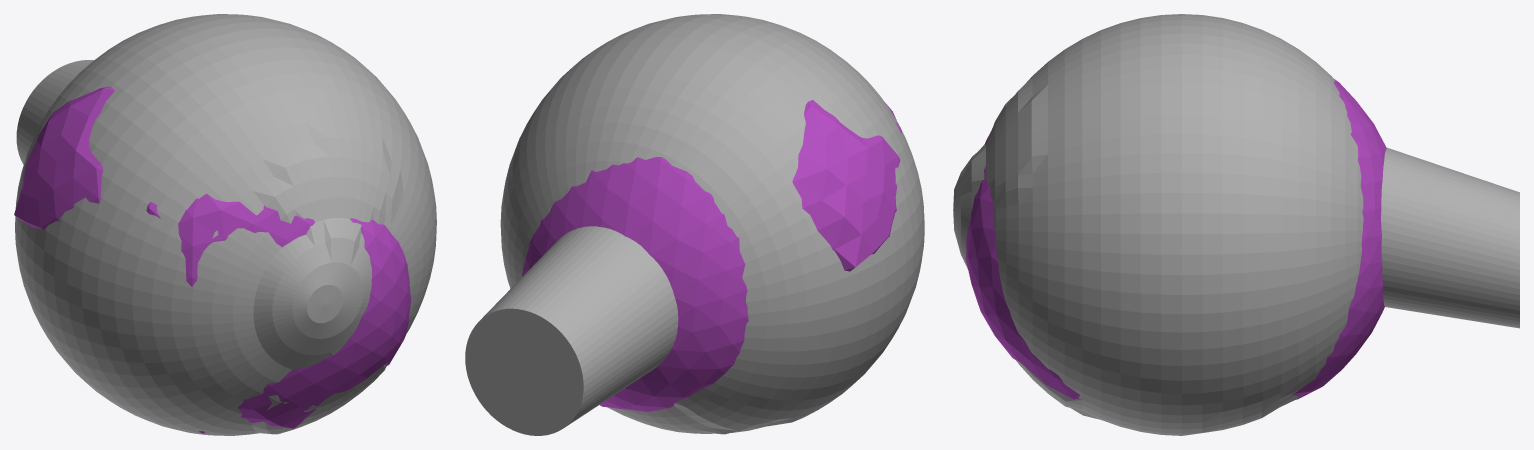
Rendered from G01_DEFORM_ONLY_GT_ALIGNED.glb.
3 renders of one model, left to right at view 1: azimuth 30°, elevation 25°; view 2: azimuth 150°, elevation 25°; view 3: azimuth 270°, elevation 25°, orthographic.
Visible parts, largest first — view 1: GT, DEFORM_ONLY_ALIGNED_EVALUATION_ONLY; view 2: GT, DEFORM_ONLY_ALIGNED_EVALUATION_ONLY; view 3: GT, DEFORM_ONLY_ALIGNED_EVALUATION_ONLY.
Boxes of the visible parts, box(x1,y1,x2,y2) form: GT: box(15, 14, 436, 435); DEFORM_ONLY_ALIGNED_EVALUATION_ONLY: box(14, 86, 410, 433); GT: box(465, 14, 924, 435); DEFORM_ONLY_ALIGNED_EVALUATION_ONLY: box(522, 100, 901, 411); GT: box(953, 14, 1519, 435); DEFORM_ONLY_ALIGNED_EVALUATION_ONLY: box(965, 79, 1386, 399).
Size of the model in its own units: 0.012 by 0.012 by 0.0161.
